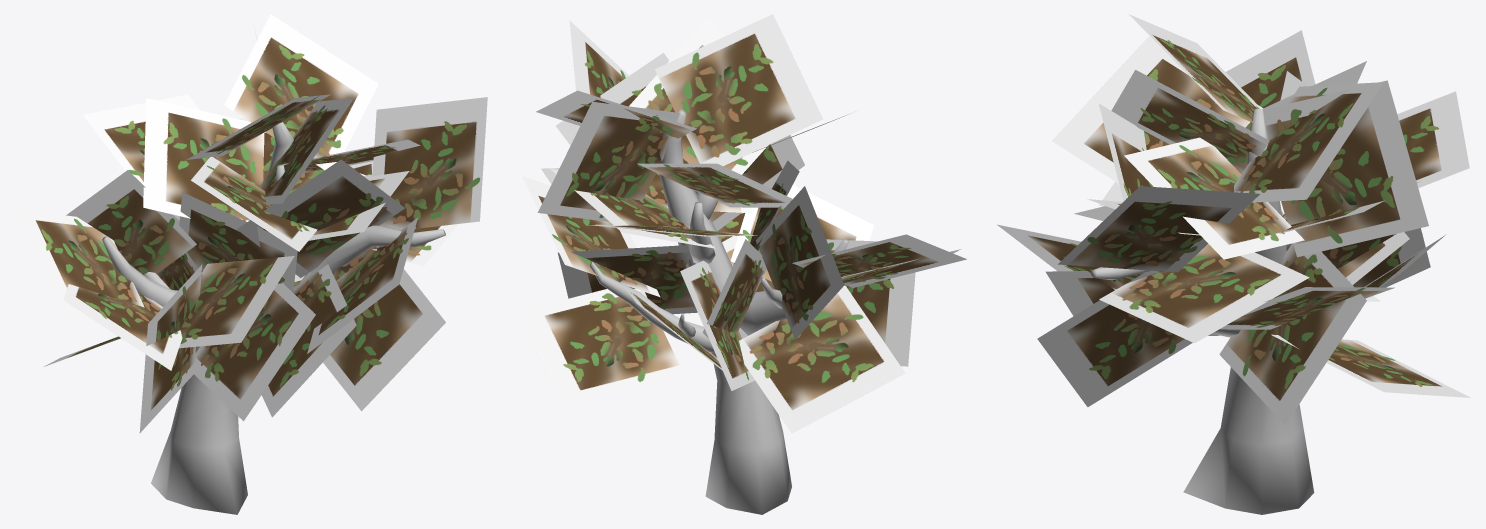
The model's file is tree.fbx.
3 renders of one model, left to right at view 1: azimuth 30°, elevation 25°; view 2: azimuth 150°, elevation 25°; view 3: azimuth 270°, elevation 25°, orthographic. The views are drawn at different scales.
Visible parts, largest first — view 1: Plane.029; view 2: Plane.029; view 3: Plane.029.
Boxes of the visible parts, <box> form: Plane.029: <box>14,14,487,514</box>; Plane.029: <box>516,14,966,514</box>; Plane.029: <box>997,14,1470,514</box>.
Bounding box in the file's own units: 1567 × 1533 × 1326.
